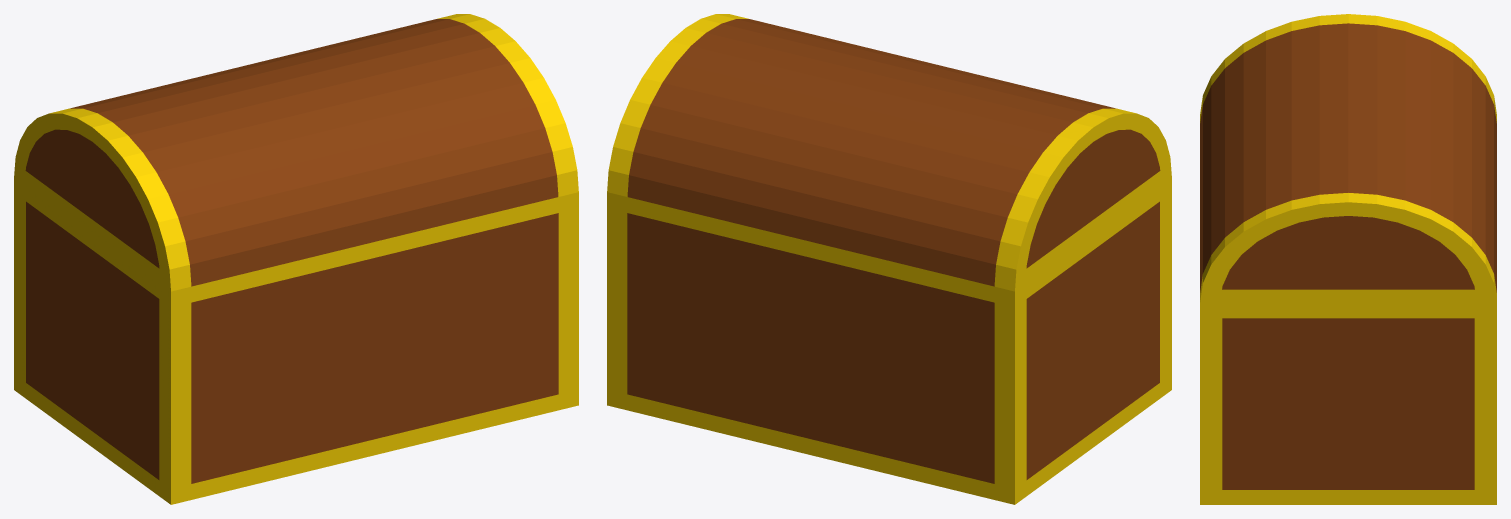
File: goldBox.glb
3 views of the same model, side by side, from view 1: azimuth 30°, elevation 25°; view 2: azimuth 150°, elevation 25°; view 3: azimuth 270°, elevation 25° (orthographic). The views are drawn at different scales.
Visible parts, largest first — view 1: Body, Head; view 2: Body, Head; view 3: Head, Body.
Boxes of the visible parts, box(x1,y1,x2,y2) form: Body: box(14, 177, 578, 504); Head: box(14, 14, 578, 291); Body: box(607, 177, 1171, 504); Head: box(607, 14, 1171, 291); Head: box(1200, 14, 1496, 302); Body: box(1200, 303, 1496, 504).
Bounding box in the file's own units: 6 × 4.5 × 4.
